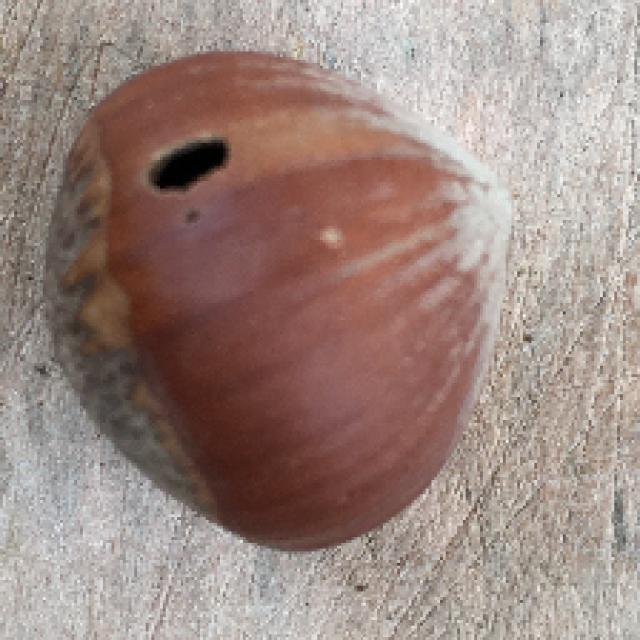damagedHazelnut: (34, 46, 524, 557)
